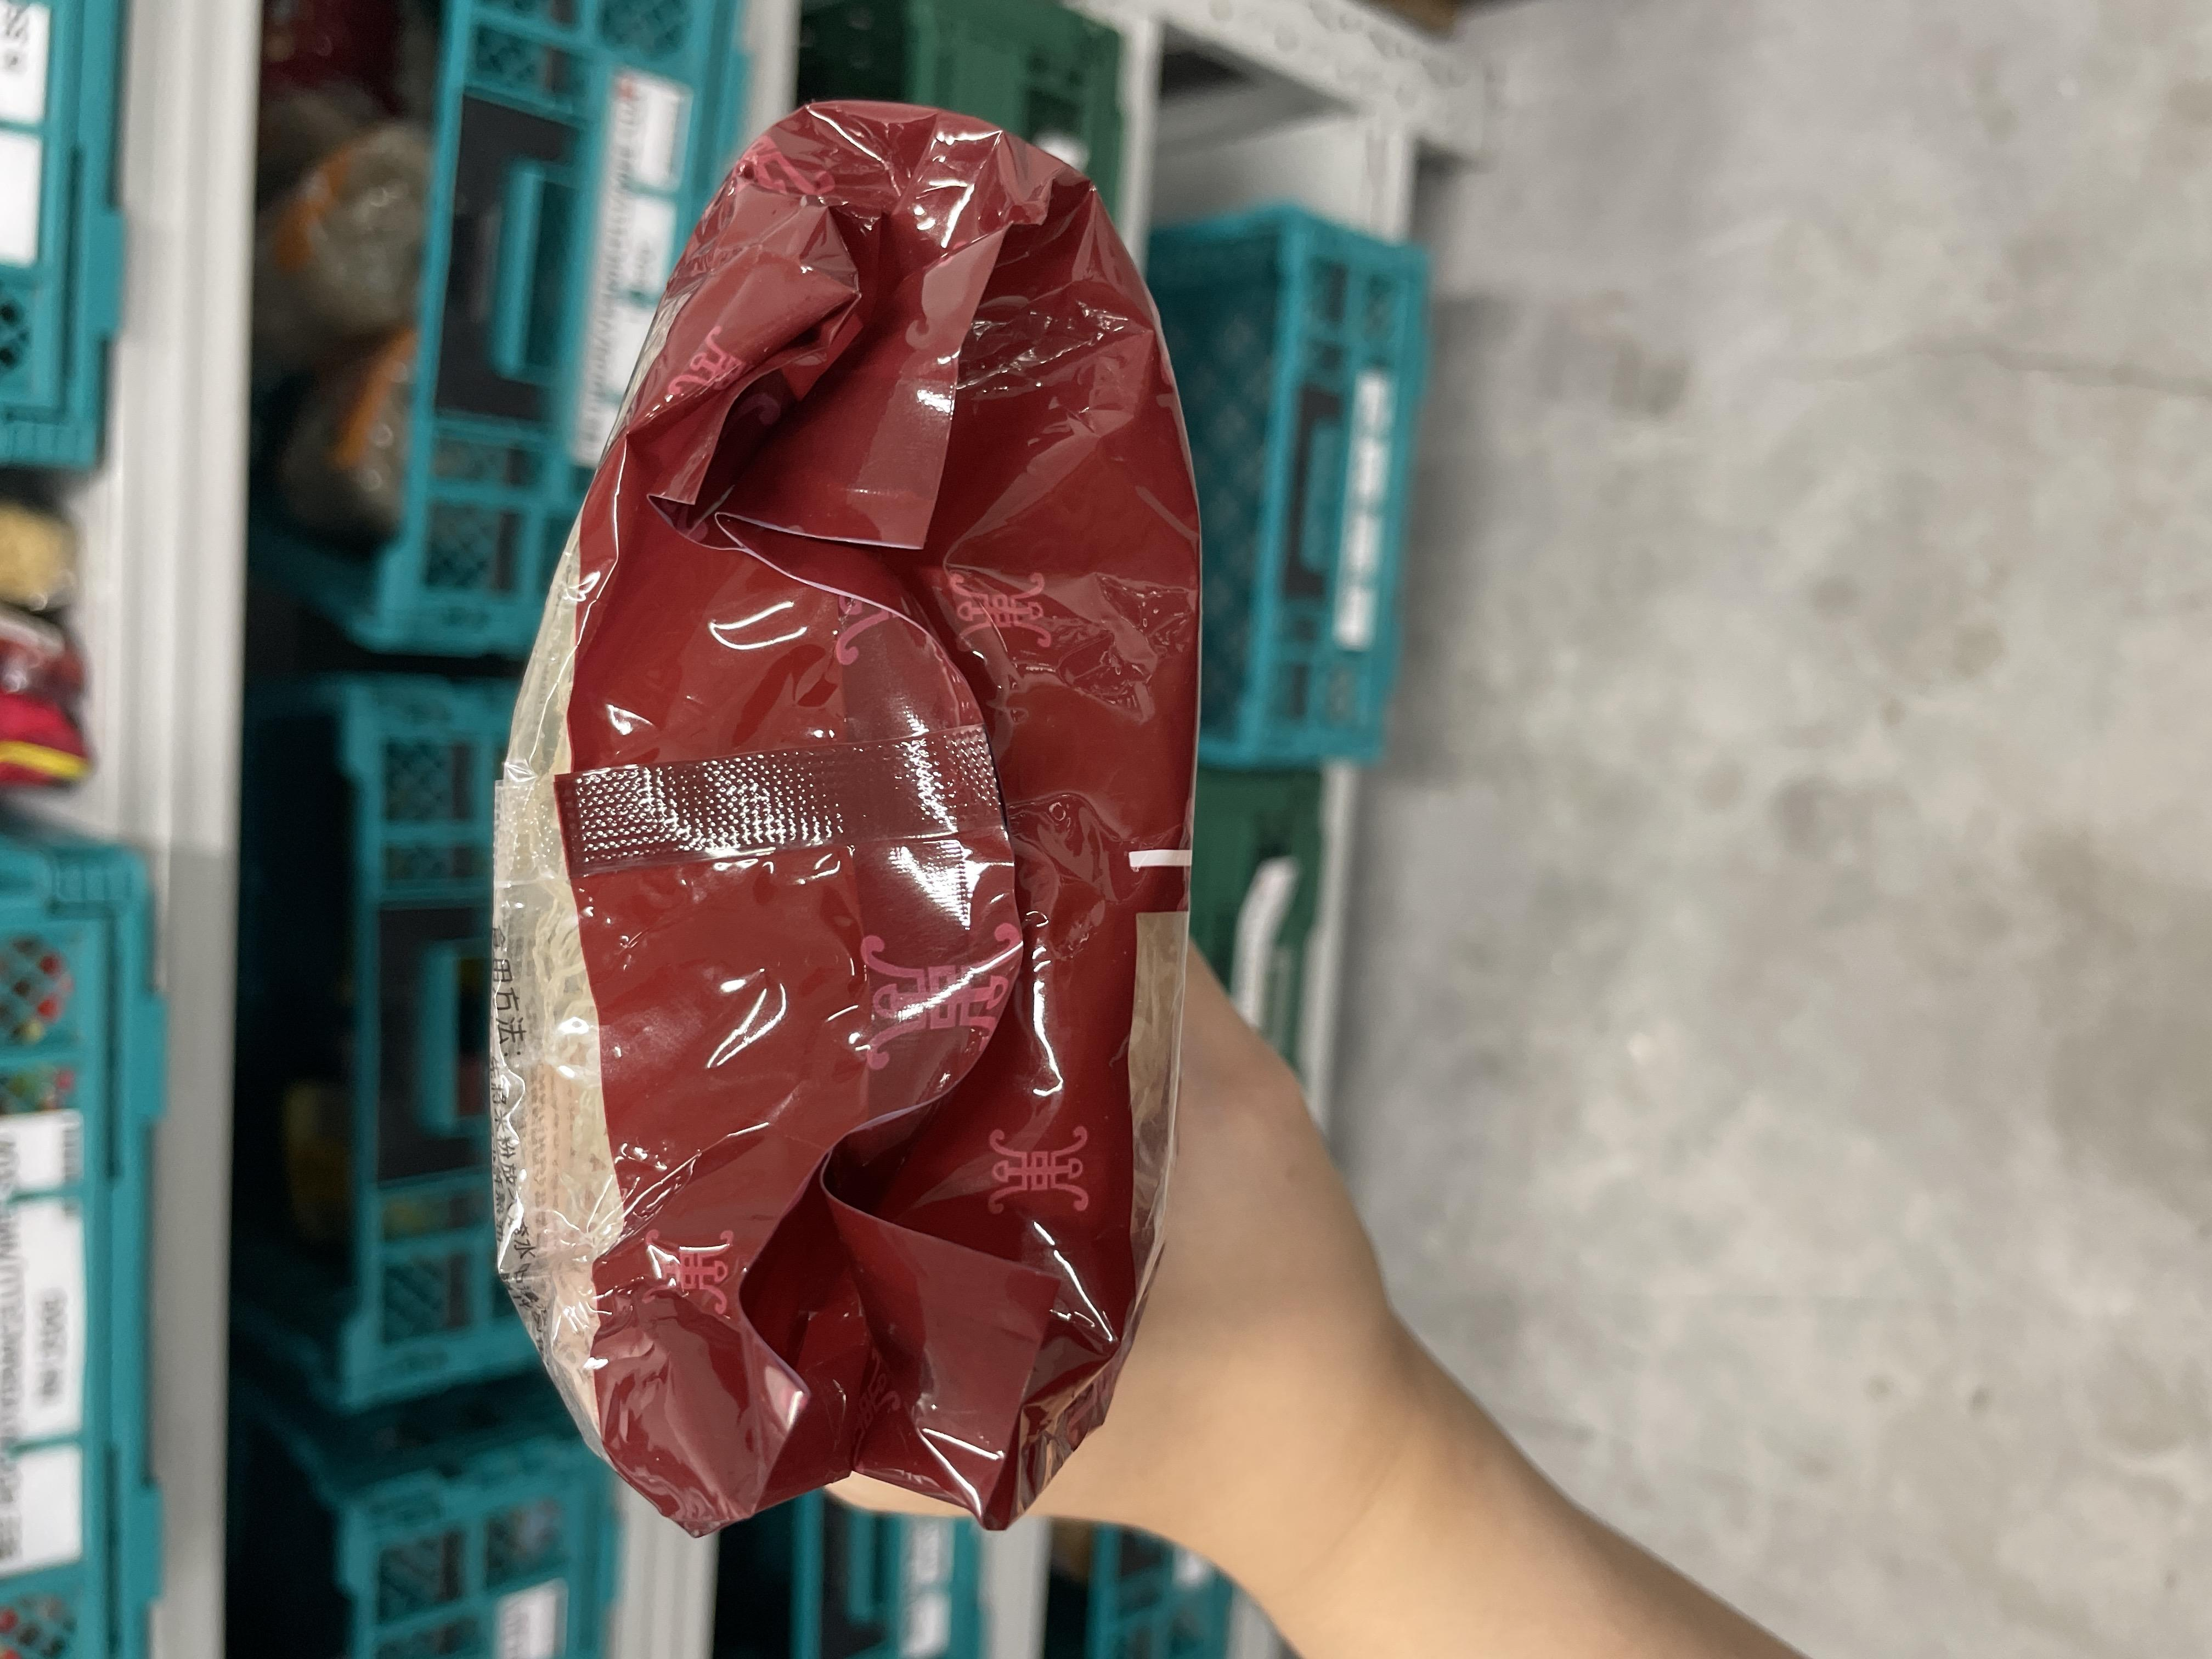object_name: (186, 554, 1498, 1141)
